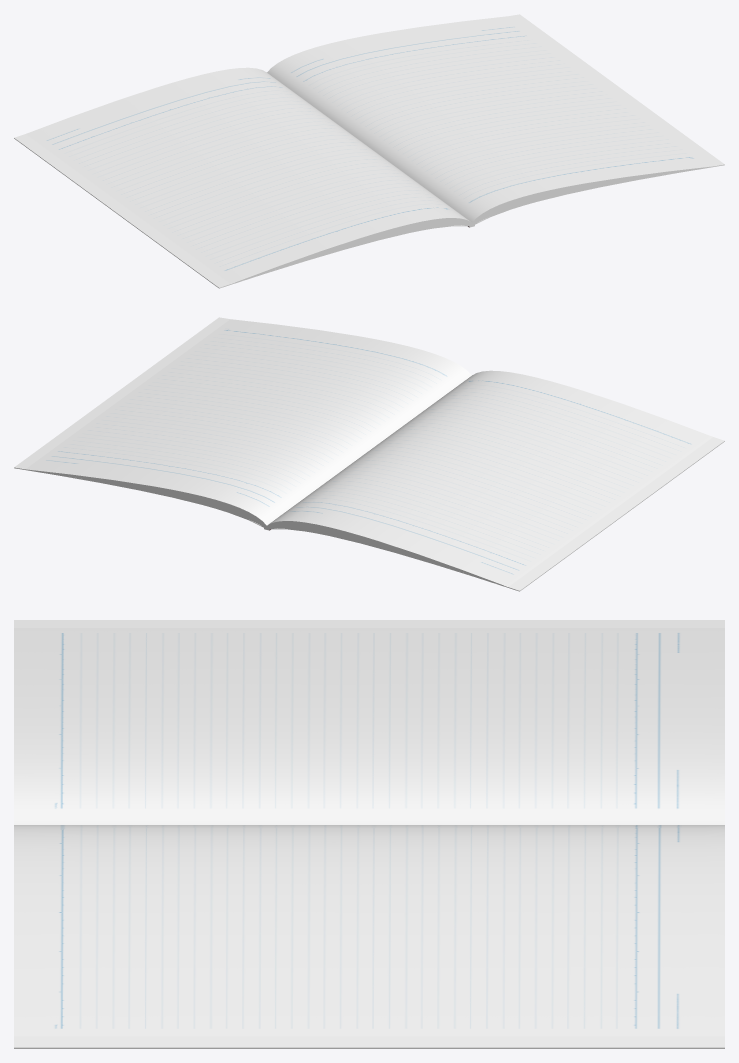
Rendered from 441_大学ノート開.glb.
3 renders of one model, top to bottom at view 1: azimuth 30°, elevation 25°; view 2: azimuth 150°, elevation 25°; view 3: azimuth 270°, elevation 25°, orthographic. The views are drawn at different scales.
Parts seen in each view (by area): view 1: notebook_open; view 2: notebook_open; view 3: notebook_open.
Boxes of the visible parts, x1,y1,x2,y2 form: notebook_open: (14,14,724,288); notebook_open: (14,317,724,591); notebook_open: (14,620,724,1048).
Size of the model in its own units: 0.3587 by 0.0122 by 0.252.
Materials: 4 (2 with a texture image).
